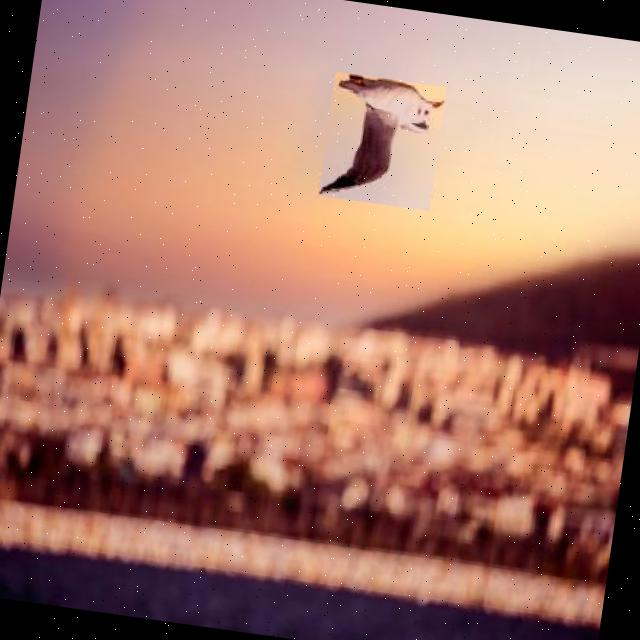bird: (318, 72, 447, 211)
